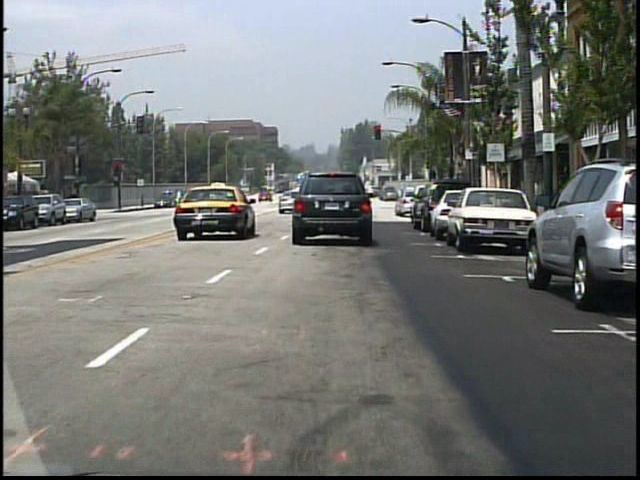person: (352, 184, 369, 218), (177, 188, 192, 213)
